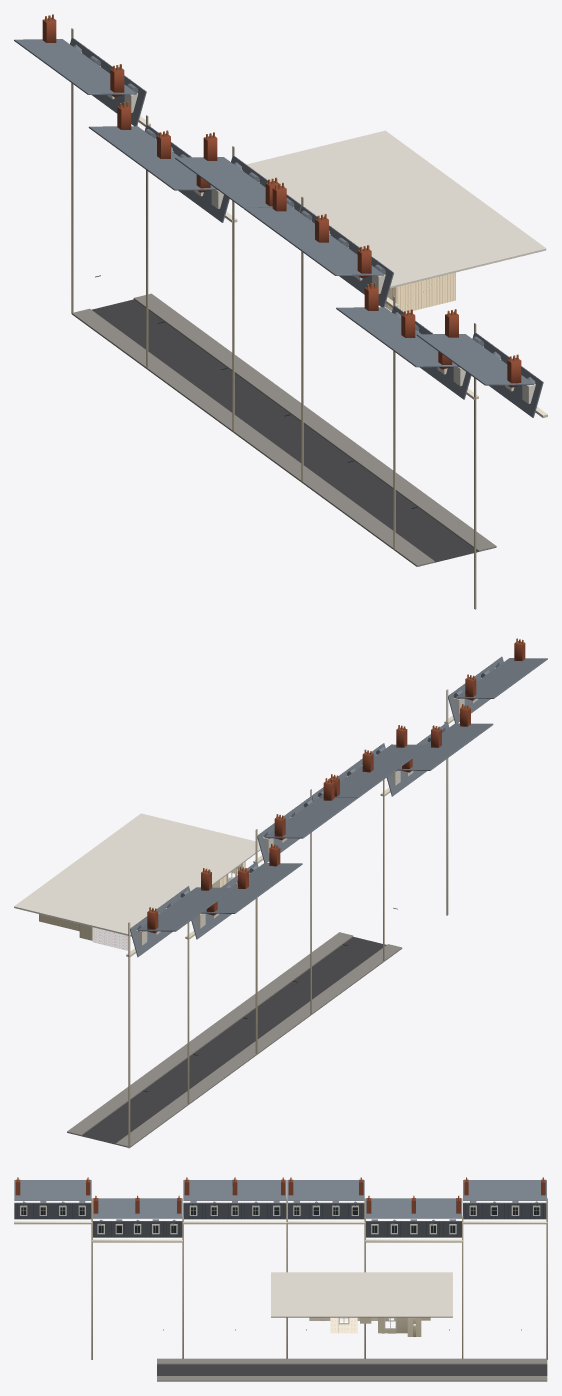
File: appart.glb
3 renders of one model, top to bottom at view 1: azimuth 30°, elevation 25°; view 2: azimuth 150°, elevation 25°; view 3: azimuth 270°, elevation 25°, orthographic. The views are drawn at different scales.
Size of the model in its own units: 28.95 by 29.53 by 82.12.
Materials: 348 (90 with a texture image).
